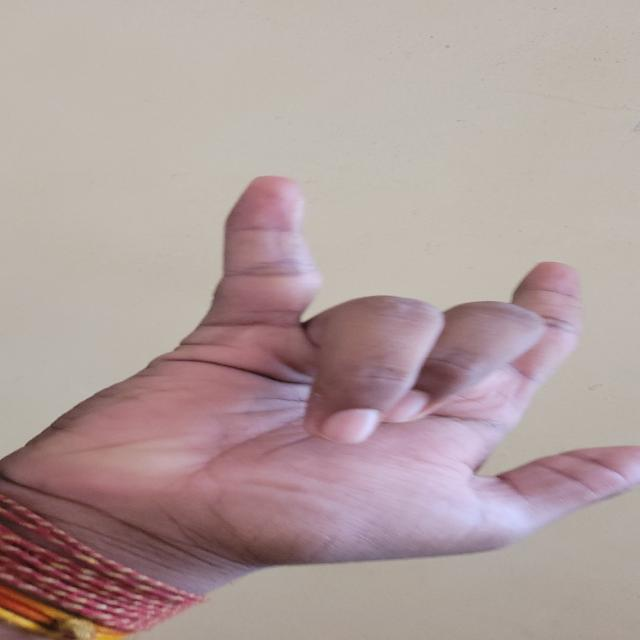i like you: (110, 150, 640, 570)
